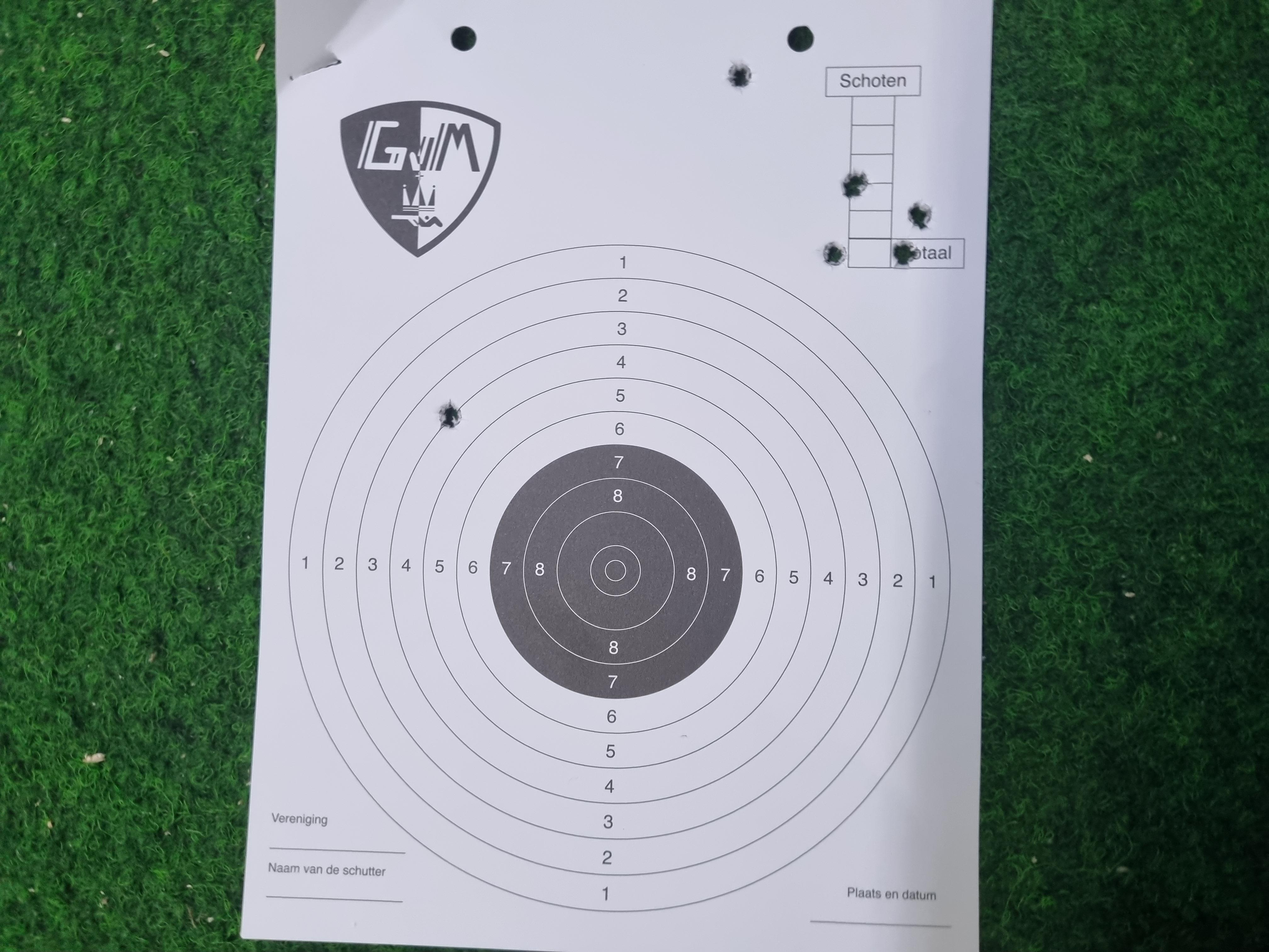hole: (1005, 630, 1042, 652), (696, 329, 738, 347), (963, 680, 1001, 699), (915, 669, 949, 688), (913, 618, 947, 637), (1151, 545, 1185, 564)
